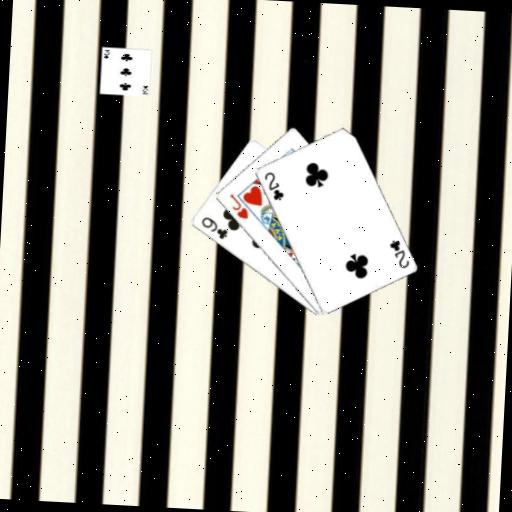2C: (260, 168, 287, 202), (385, 237, 412, 270)
9C: (197, 213, 230, 241)
JH: (226, 191, 251, 221)
